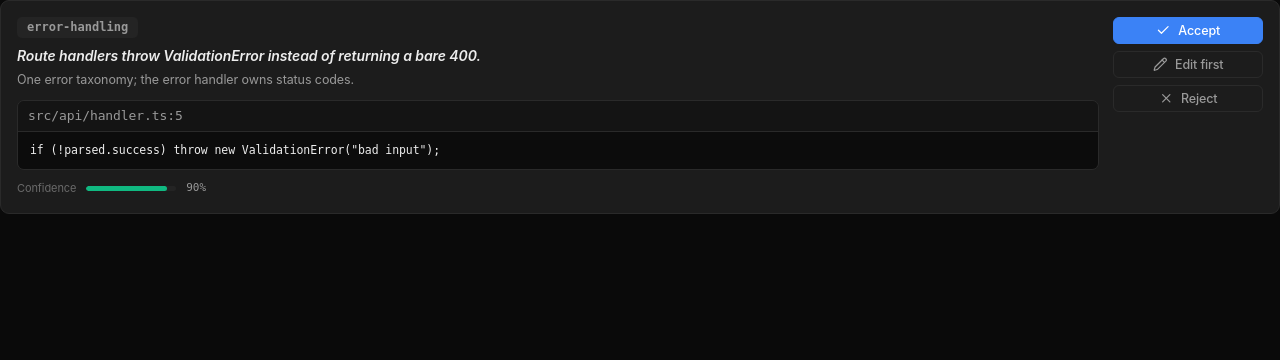
Scenario: ConventionCard › cancelling an edit restores the original rule
Click the button "Edit first" at (1188, 64), box [1113,51,1263,78]
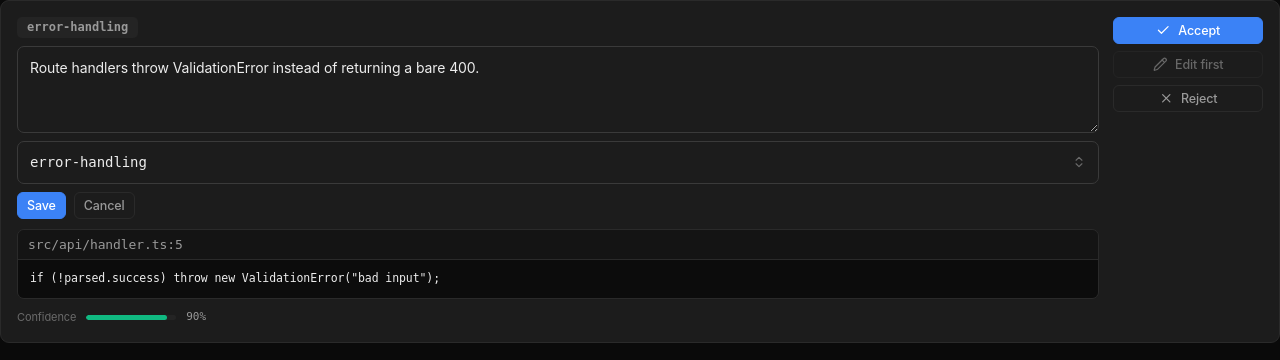
Replace the text in the text box with "something else" at (558, 89), box [17,46,1099,133]
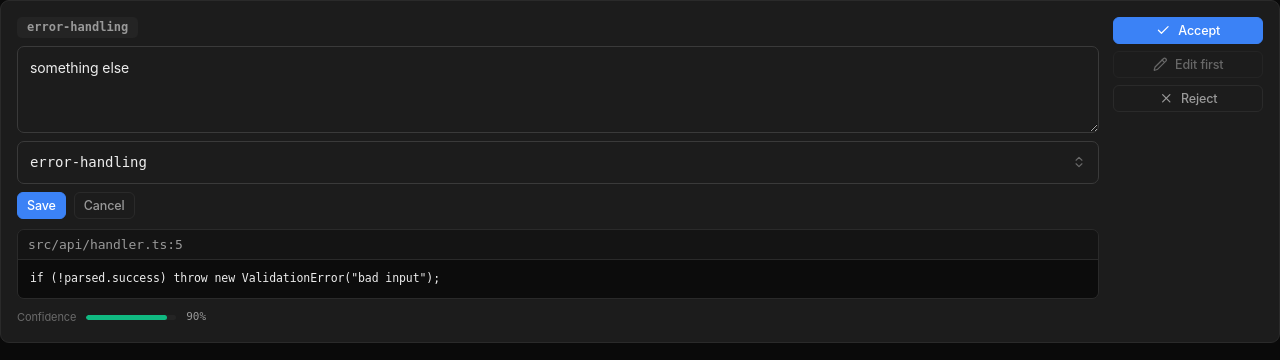
Click the button "Cancel" at (104, 205), box [74,192,135,219]
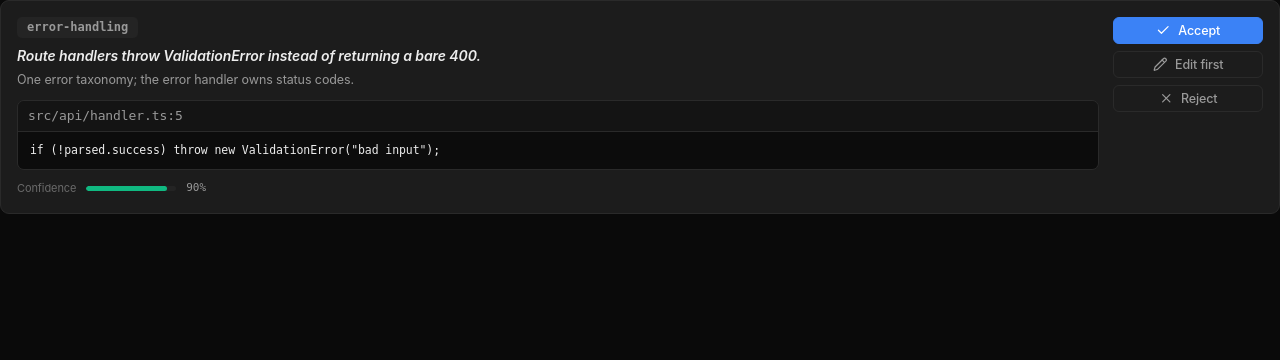
expect the text "Route handlers throw ValidationError instead of returning a bare 400." is shown: met, box [17,47,481,64]
